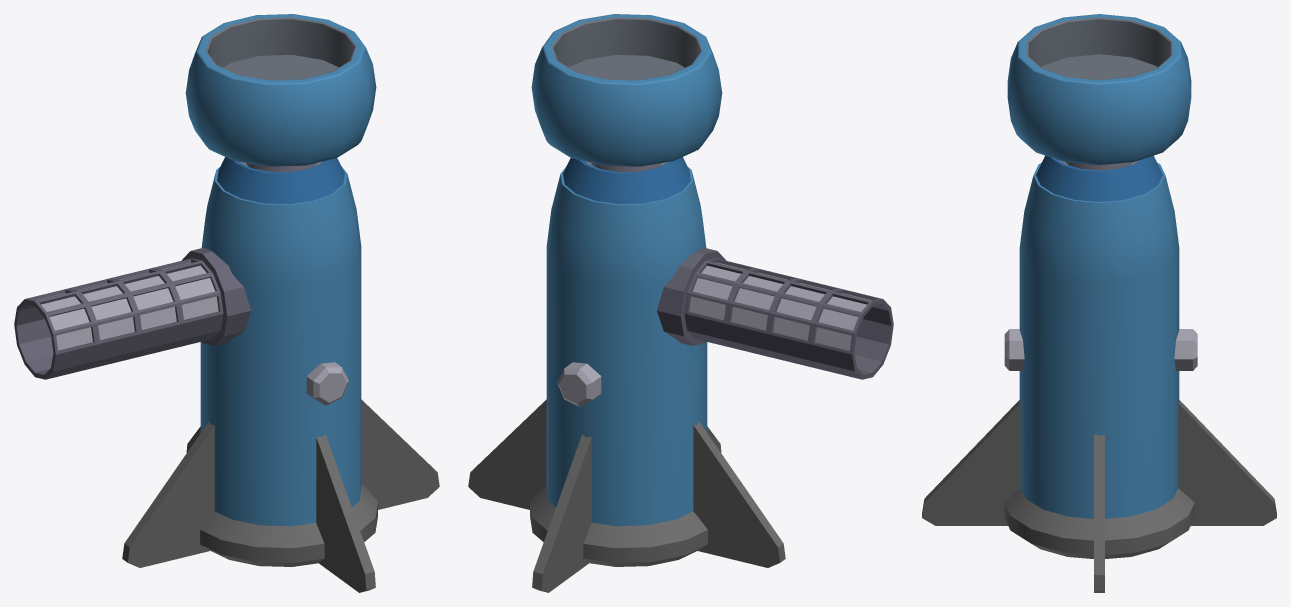
File: Ball_Throwing_Machine_3.fbx
3 renders of one model, left to right at view 1: azimuth 30°, elevation 25°; view 2: azimuth 150°, elevation 25°; view 3: azimuth 270°, elevation 25°, orthographic.
Visible parts, largest first — view 1: Ball_Throwing_Machine_03, Ball_Box_03; view 2: Ball_Throwing_Machine_03, Ball_Box_03; view 3: Ball_Throwing_Machine_03, Ball_Box_03.
Boxes of the visible parts, x1=… form: Ball_Throwing_Machine_03: x1=14, y1=157, x2=439, y2=592; Ball_Box_03: x1=185, y1=14, x2=376, y2=171; Ball_Throwing_Machine_03: x1=468, y1=157, x2=893, y2=592; Ball_Box_03: x1=531, y1=14, x2=722, y2=171; Ball_Throwing_Machine_03: x1=922, y1=155, x2=1276, y2=592; Ball_Box_03: x1=1007, y1=14, x2=1191, y2=170.
Bounding box in the file's own units: 3.68 × 4.22 × 2.85.
